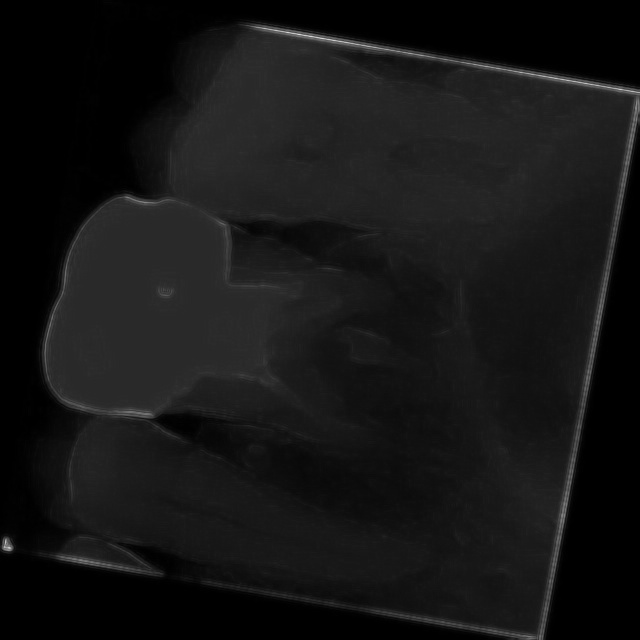Class 1- complete endodontic treatment: (21, 162, 524, 509)
